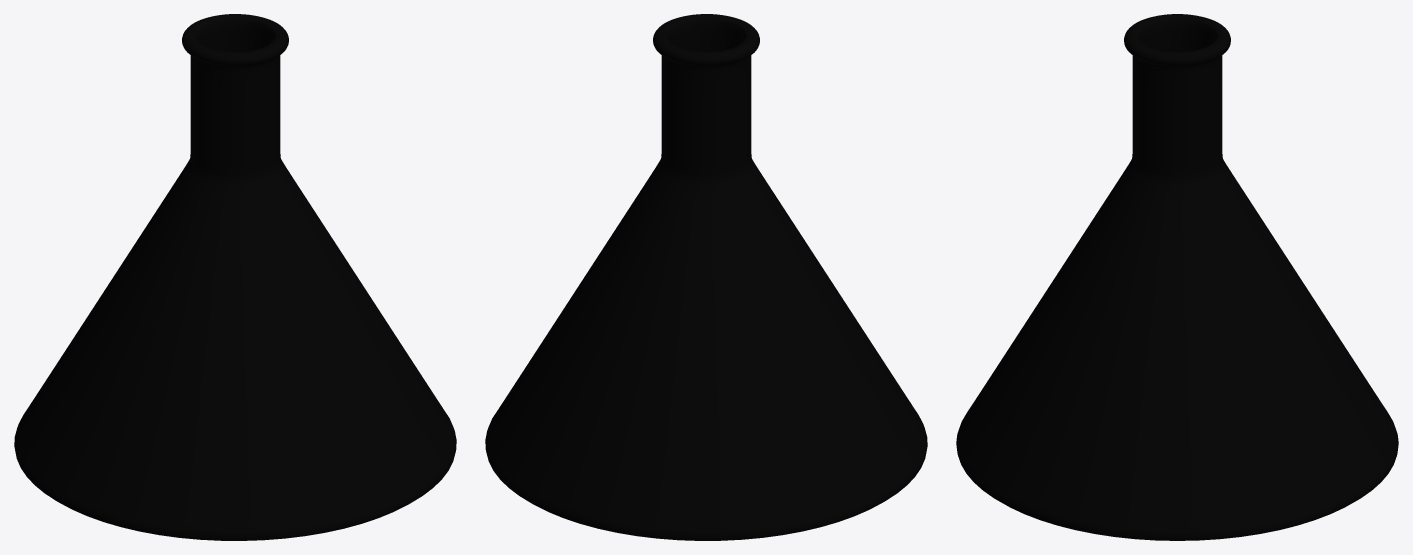
Rendered from frasco_3d.glb.
3 renders of one model, left to right at view 1: azimuth 30°, elevation 25°; view 2: azimuth 150°, elevation 25°; view 3: azimuth 270°, elevation 25°, orthographic.
Parts seen in each view (by area): view 1: 円, 円.002; view 2: 円, 円.002; view 3: 円.002, 円.
Boxes of the visible parts, bbox=[...] form: 円: bbox=[14, 14, 410, 539]; 円.002: bbox=[60, 21, 456, 540]; 円: bbox=[531, 14, 927, 539]; 円.002: bbox=[485, 19, 881, 540]; 円.002: bbox=[957, 16, 1397, 540]; 円: bbox=[956, 14, 1398, 478].
Bounding box in the file's own units: 4.4 × 4.59 × 4.4.
4 materials, 1 textured.
